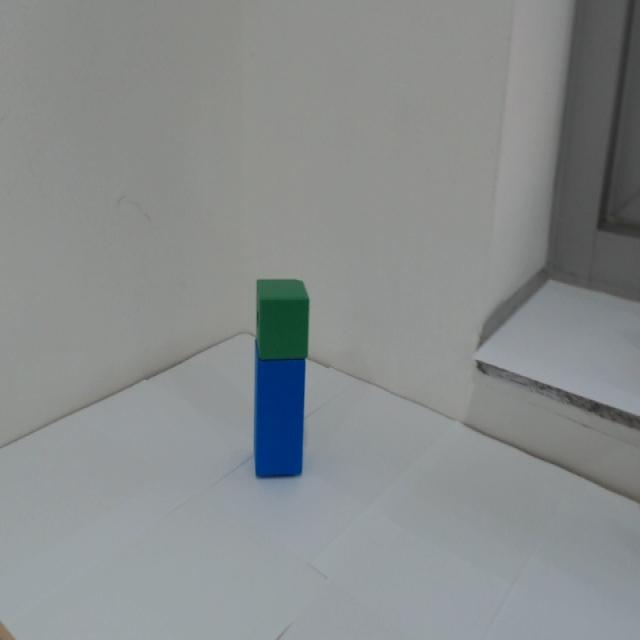cube: (250, 272, 327, 363)
